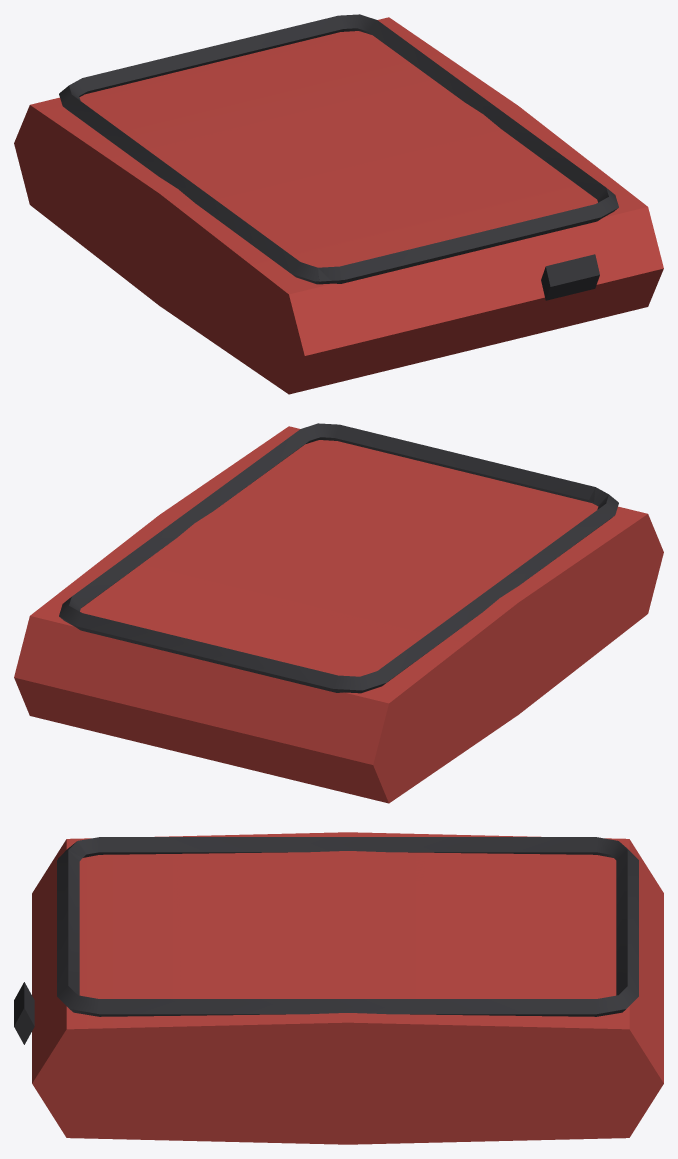
Rendered from satnav_lod1.glb.
The picture shows the model from 3 angles, top to bottom: view 1: azimuth 30°, elevation 25°; view 2: azimuth 150°, elevation 25°; view 3: azimuth 270°, elevation 25°; orthographic projection. The views are drawn at different scales.
Visible parts, largest first — view 1: satnav_lod1; view 2: satnav_lod1; view 3: satnav_lod1.
Part boxes in pixels (bbox=[...]): satnav_lod1: bbox=[14, 14, 663, 394]; satnav_lod1: bbox=[14, 423, 663, 803]; satnav_lod1: bbox=[14, 832, 663, 1144].
Bounding box in the file's own units: 0.087 × 0.028 × 0.1255.
